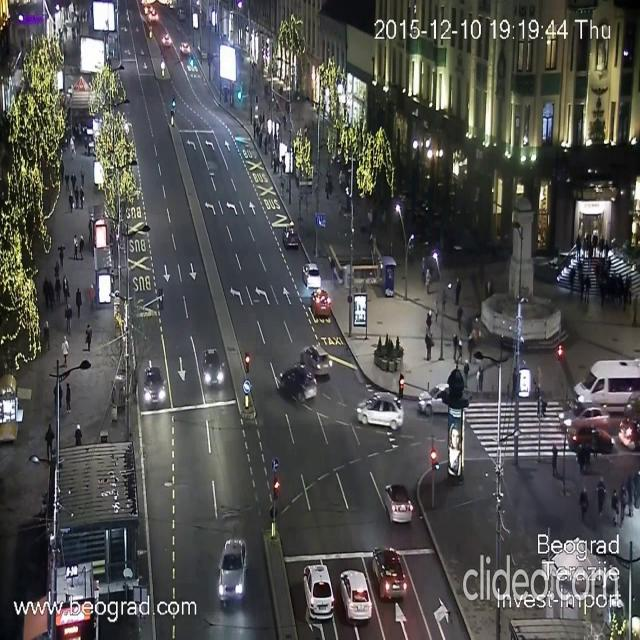car: (573, 358, 640, 412), (217, 537, 247, 609), (371, 546, 407, 602), (303, 562, 335, 621), (340, 569, 372, 624), (277, 364, 317, 404), (359, 398, 407, 430), (615, 402, 640, 458), (385, 482, 413, 524), (564, 427, 608, 453), (418, 382, 454, 412), (143, 364, 166, 404), (202, 346, 224, 386), (558, 412, 610, 428), (306, 347, 326, 381), (302, 257, 320, 290), (310, 290, 330, 317), (282, 226, 298, 249), (157, 34, 175, 52), (178, 40, 188, 56), (148, 10, 158, 26)
